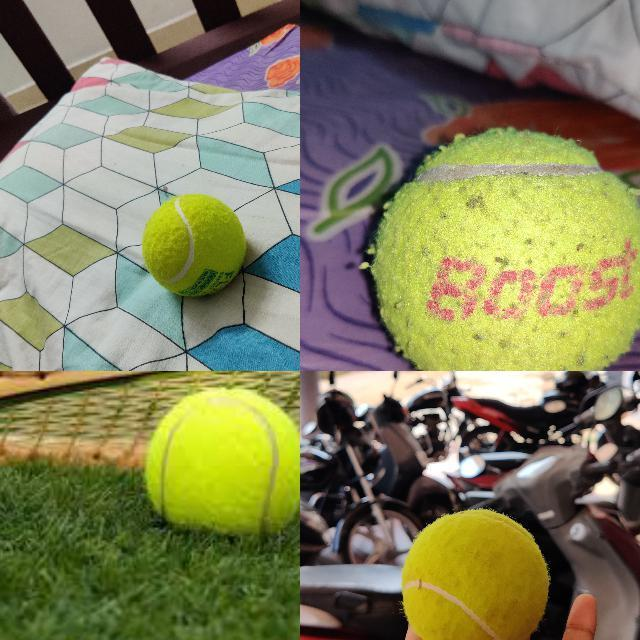tennis-ball: (372, 122, 639, 370), (142, 385, 299, 536), (400, 508, 548, 639), (141, 194, 245, 296)
